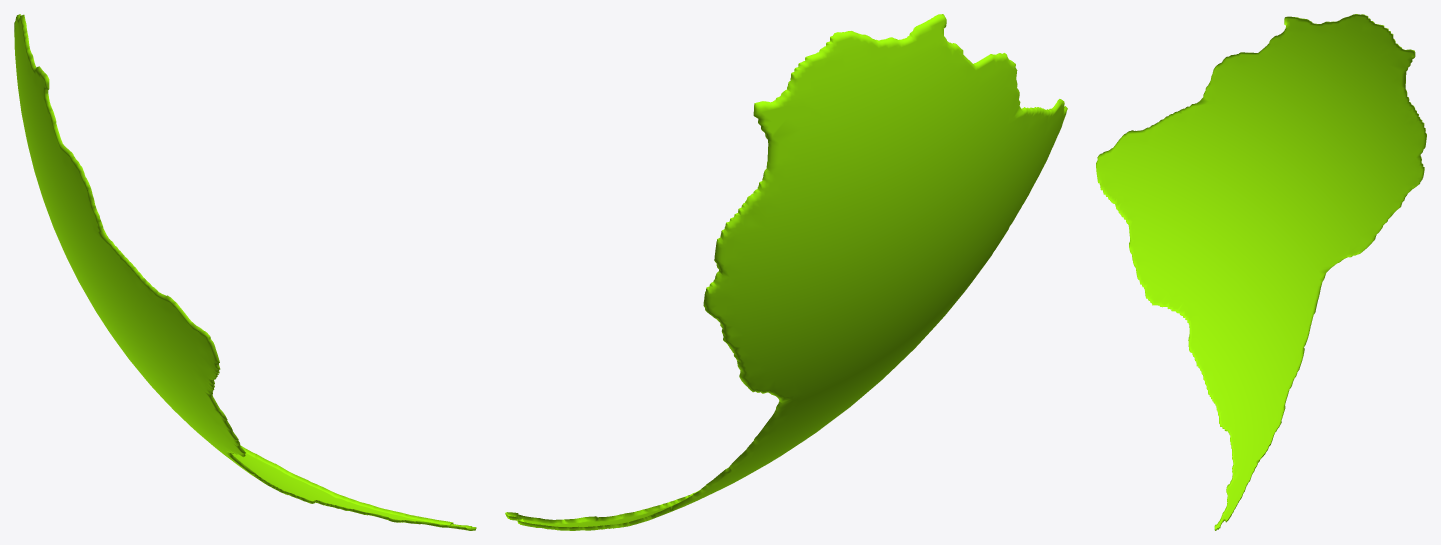
File: South America.fbx
3 renders of one model, left to right at view 1: azimuth 30°, elevation 25°; view 2: azimuth 150°, elevation 25°; view 3: azimuth 270°, elevation 25°, orthographic. The views are drawn at different scales.
Visible parts, largest first — view 1: South America; view 2: South America; view 3: South America.
Boxes of the visible parts, <box> form: South America: <box>14,14,476,530</box>; South America: <box>505,14,1067,530</box>; South America: <box>1096,14,1426,530</box>.
Size of the model in its own units: 4876 by 6305 by 4850.
